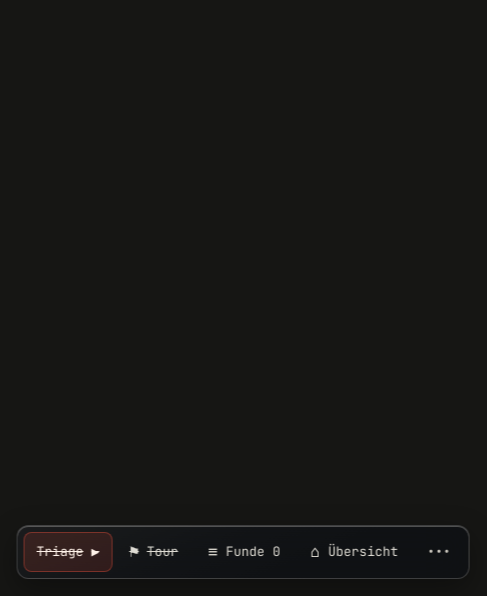
Test: EIN Ort für alle Zugangsoptionen › says every state as a WORD in the DOM — after every colour was stripped
What coordinates should you click on to do the following:
click the button with id "city-more-button"
I would click on:
 (439, 552)
Its box is [415,532,462,572].
(page scrolled)
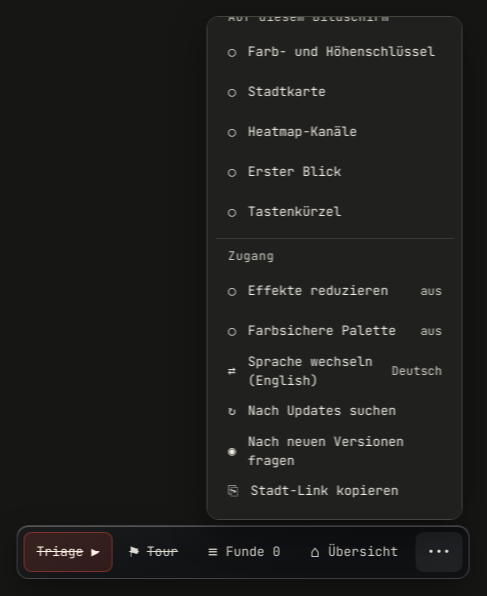
Expected: the menu item "○ Effekte reduzieren aus" is shown, [216,271,454,311]
Expected: the menu item "○ Farbsichere Palette aus" is shown
What coordinates should you click on to do the following:
click the menu item "○ Farbsichere Palette aus"
I would click on:
 (334, 331)
Its box is [216,311,454,351].
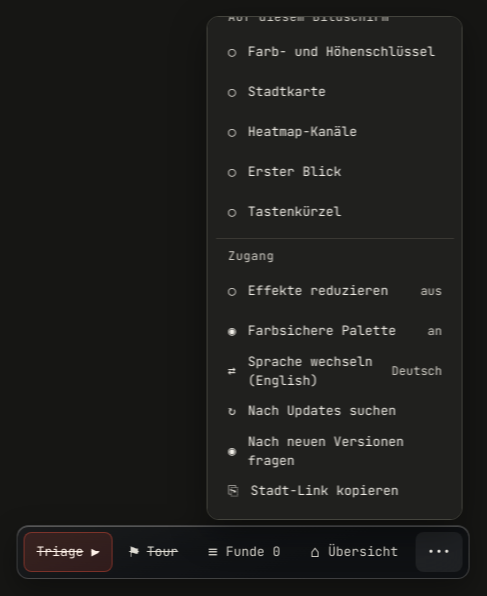
Expected: the menu item "◉ Farbsichere Palette an" is shown, [216,311,454,351]
